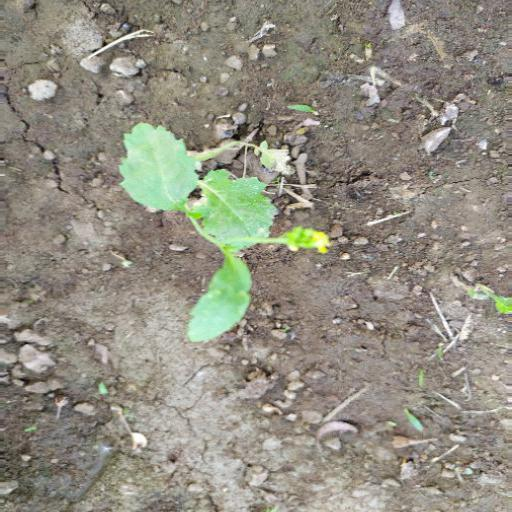weed: (110, 114, 334, 349)
